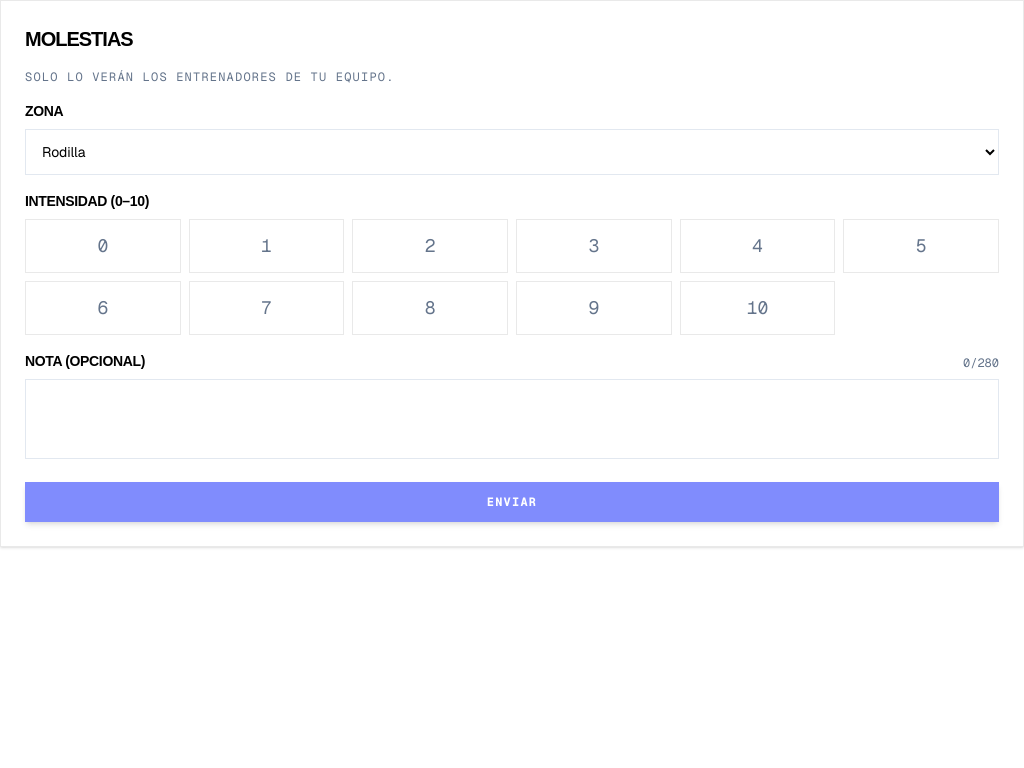
DiscomfortSection — reportar › con consentimiento: texto fijo, 11 botones 0–10, contador /280
Expected: the text "Solo lo verán los entrenadores de tu equipo." is shown, [25,69,395,85]
Expected: the button "0" is shown, [25,219,181,273]
Type "hola" into the text box labelled "Nota (opcional)" at (512, 419), box [25,379,999,459]
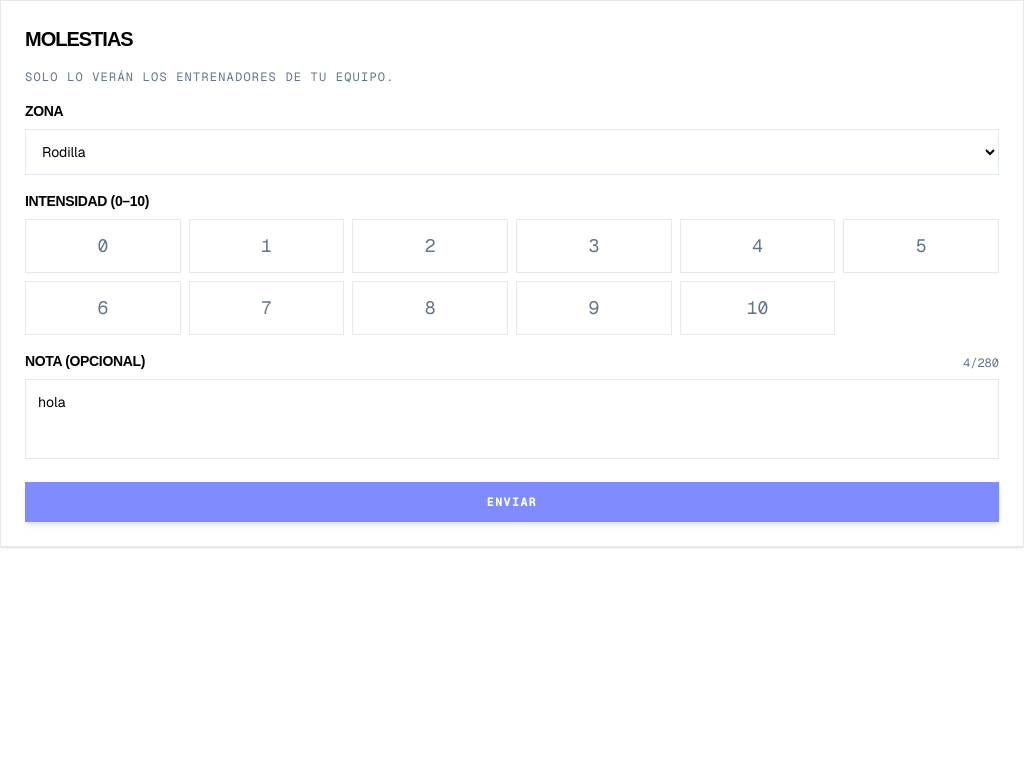
Now the text "4/280" is shown, box [963,355,999,371]
